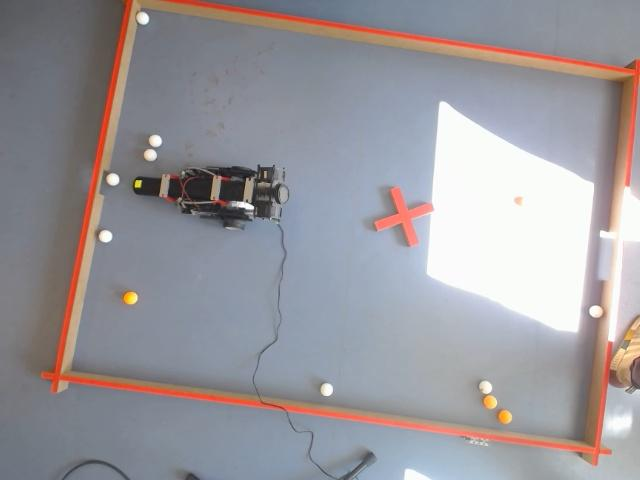orange: (122, 290, 138, 306), (483, 395, 499, 410), (497, 410, 512, 424)
robot: (132, 164, 290, 231)
white: (318, 381, 334, 398), (588, 304, 604, 318), (478, 380, 492, 394), (99, 230, 113, 243), (136, 12, 149, 25), (106, 173, 119, 186), (149, 135, 162, 147), (144, 149, 157, 161)
